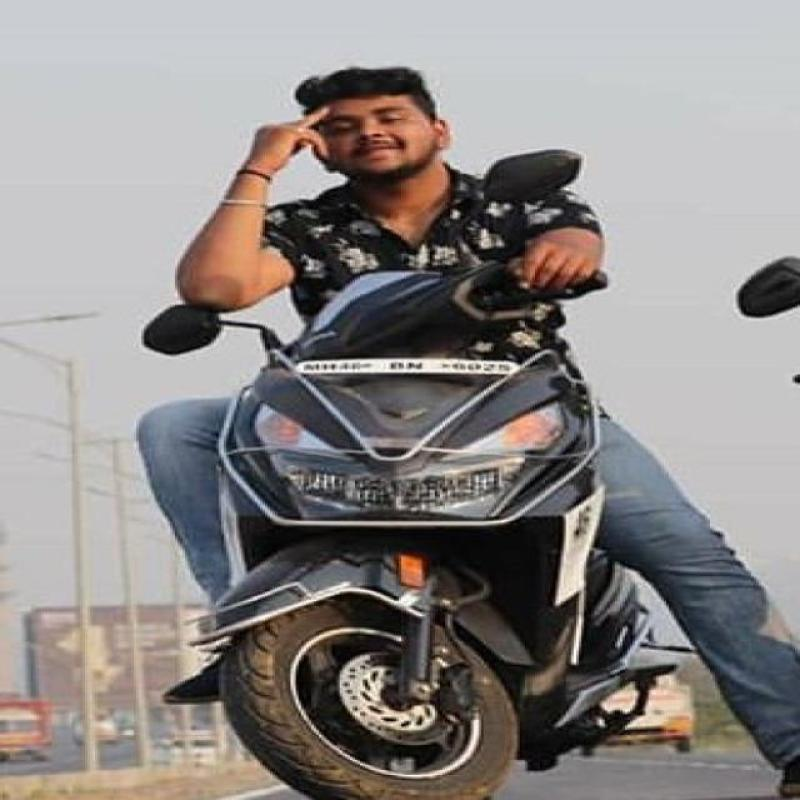nohelmet: (288, 64, 468, 176)
